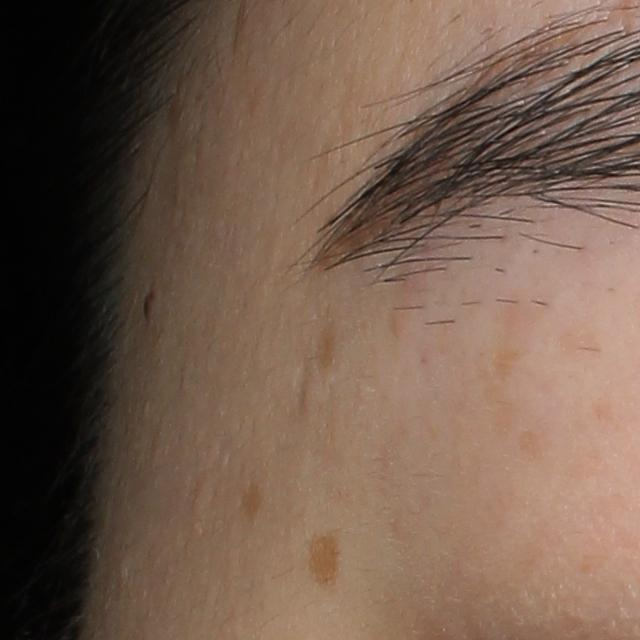melasma: (302, 529, 335, 596), (490, 309, 518, 386), (242, 481, 264, 521)
nevus: (138, 288, 158, 324)
